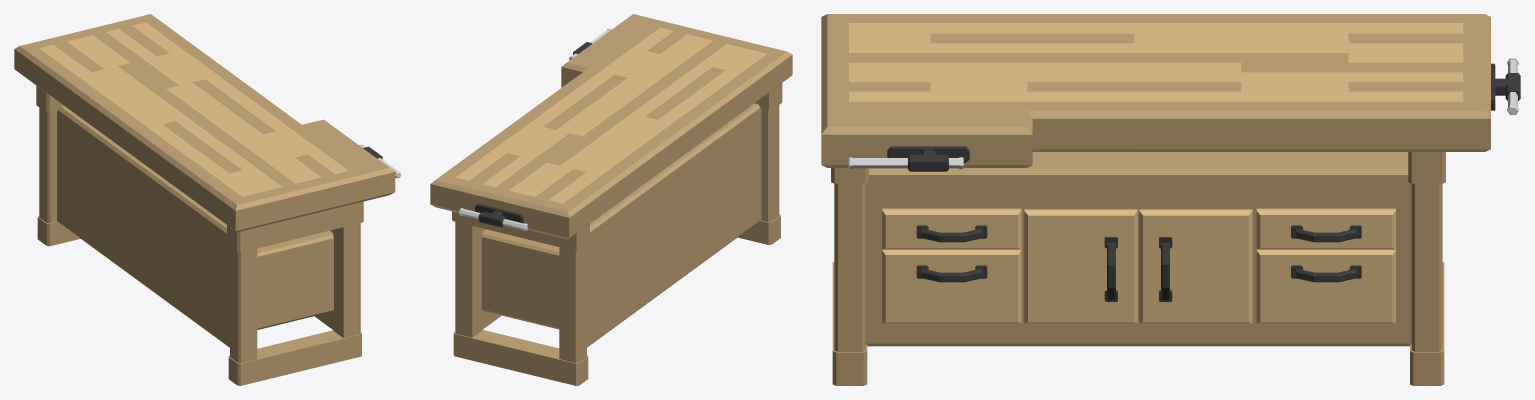
Rendered from Workbench.fbx.
3 renders of one model, left to right at view 1: azimuth 30°, elevation 25°; view 2: azimuth 150°, elevation 25°; view 3: azimuth 270°, elevation 25°, orthographic. The views are drawn at different scales.
Parts seen in each view (by area): view 1: Cube, Cube.002, Cube.001, Cube.003; view 2: Cube, Cube.002, Cube.003, Cube.001, Cube.005, Cylinder.001; view 3: Cube, Cube.002, Cube.011, Cube.010, Cube.007, Cube.008, Cube.003, Cube.001, Cube.006, Cube.009, Cube.004, Cylinder (+1 smaller).
Part boxes in pixels (bbox=[...]): Cube: bbox=[14, 14, 395, 232]; Cube.002: bbox=[57, 106, 333, 347]; Cube.001: bbox=[227, 201, 363, 385]; Cube.003: bbox=[36, 85, 80, 246]; Cube: bbox=[430, 14, 792, 239]; Cube.002: bbox=[482, 103, 761, 347]; Cube.003: bbox=[452, 211, 589, 385]; Cube.001: bbox=[738, 83, 782, 244]; Cube.005: bbox=[475, 203, 523, 227]; Cylinder.001: bbox=[458, 208, 528, 231]; Cube: bbox=[821, 14, 1490, 167]; Cube.002: bbox=[865, 152, 1411, 346]; Cube.011: bbox=[1139, 209, 1252, 323]; Cube.010: bbox=[1024, 209, 1137, 323]; Cube.007: bbox=[882, 249, 1021, 323]; Cube.008: bbox=[1256, 249, 1395, 323]; Cube.003: bbox=[1408, 152, 1445, 385]; Cube.001: bbox=[831, 168, 868, 385]; Cube.006: bbox=[882, 208, 1021, 249]; Cube.009: bbox=[1256, 208, 1395, 249]; Cube.004: bbox=[887, 146, 969, 171]; Cylinder: bbox=[848, 157, 963, 169].
Size of the model in its own units: 2.55 by 5.8 by 2.54.
